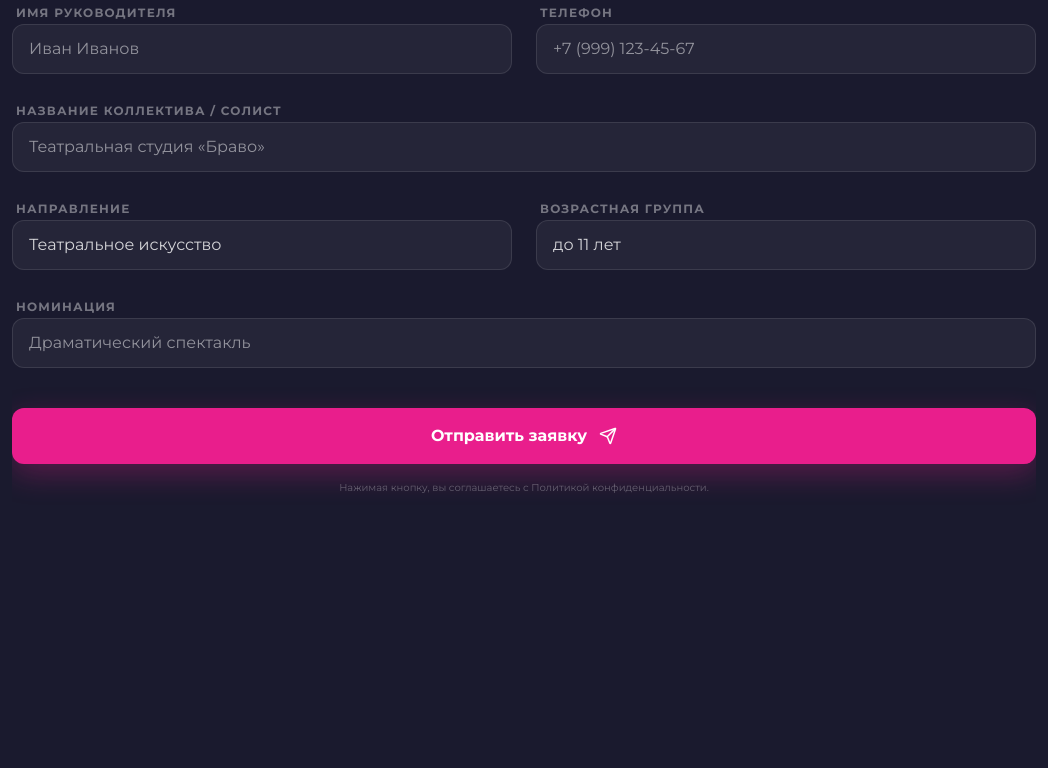
Scenario: ContactForm › shows validation error for empty name on submit
Click the button with test id "zod-submit-btn".
click(524, 436)  # box [12,408,1036,464]
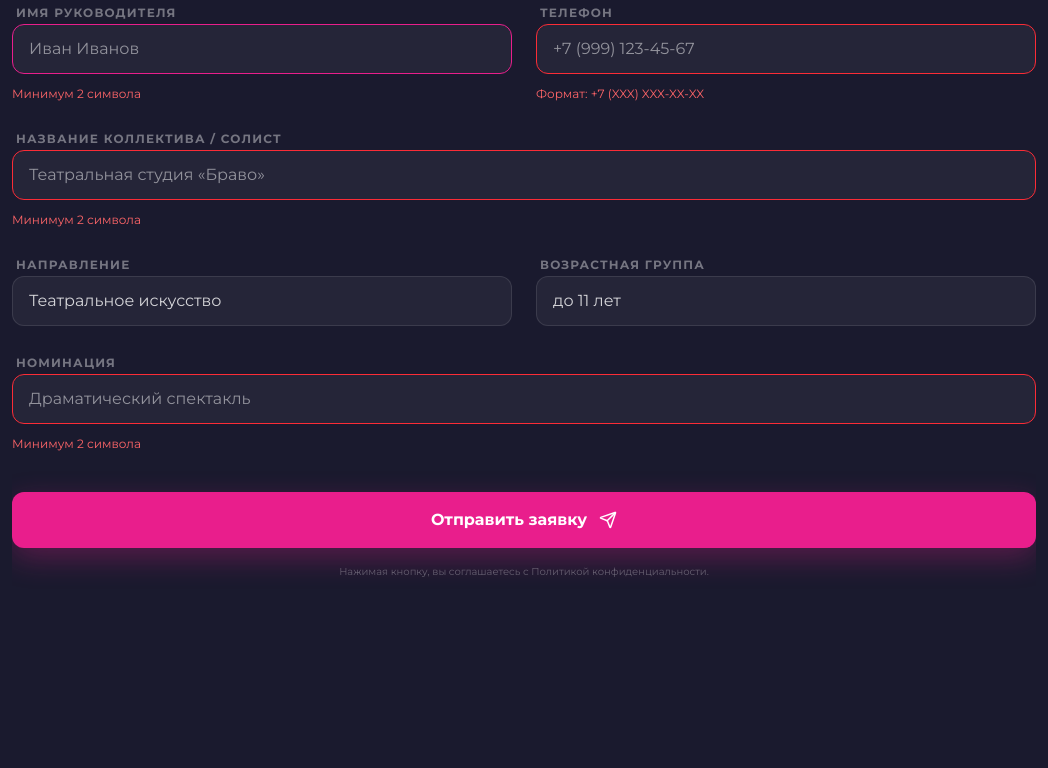
Check: the text with test id "error-name" is shown, box [12,86,141,101]
